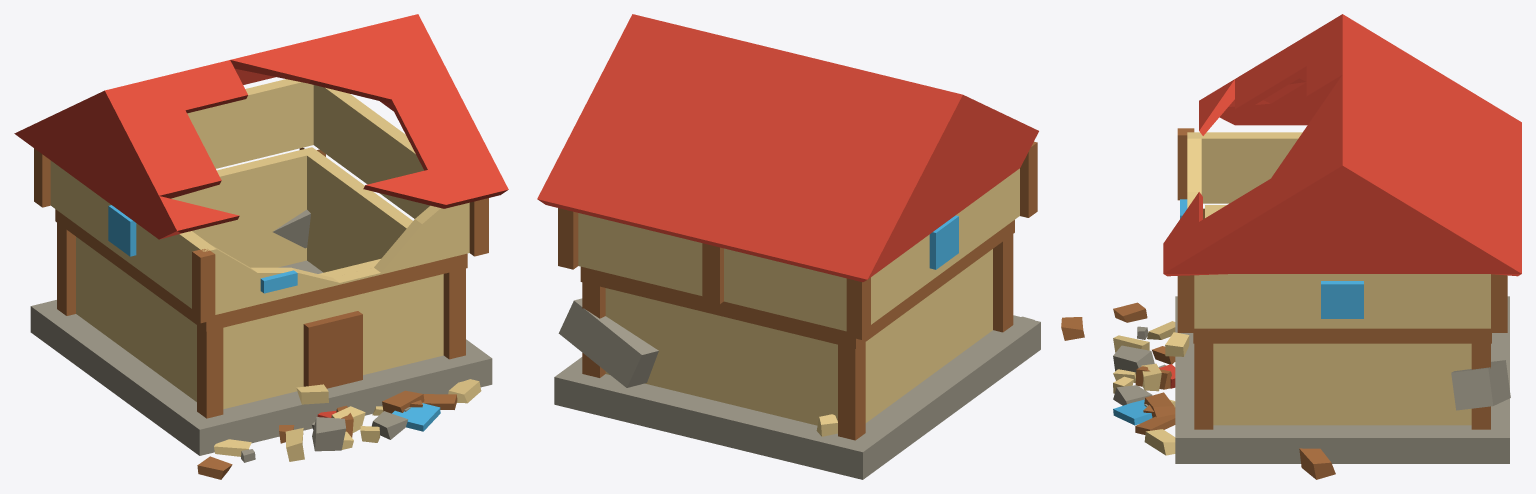
Rendered from house_t2_v1_dmg1.glb.
3 renders of one model, left to right at view 1: azimuth 30°, elevation 25°; view 2: azimuth 150°, elevation 25°; view 3: azimuth 270°, elevation 25°, orthographic. The views are drawn at different scales.
Parts seen in each view (by area): view 1: house_t2_v1_dmg1; view 2: house_t2_v1_dmg1; view 3: house_t2_v1_dmg1.
Part boxes in pixels (x1,y1,x2,y2): house_t2_v1_dmg1: (14, 14, 508, 479); house_t2_v1_dmg1: (537, 14, 1084, 479); house_t2_v1_dmg1: (1113, 14, 1521, 479).
Size of the model in its own units: 0.8346 by 0.7 by 0.855.
1 material, 1 textured.
